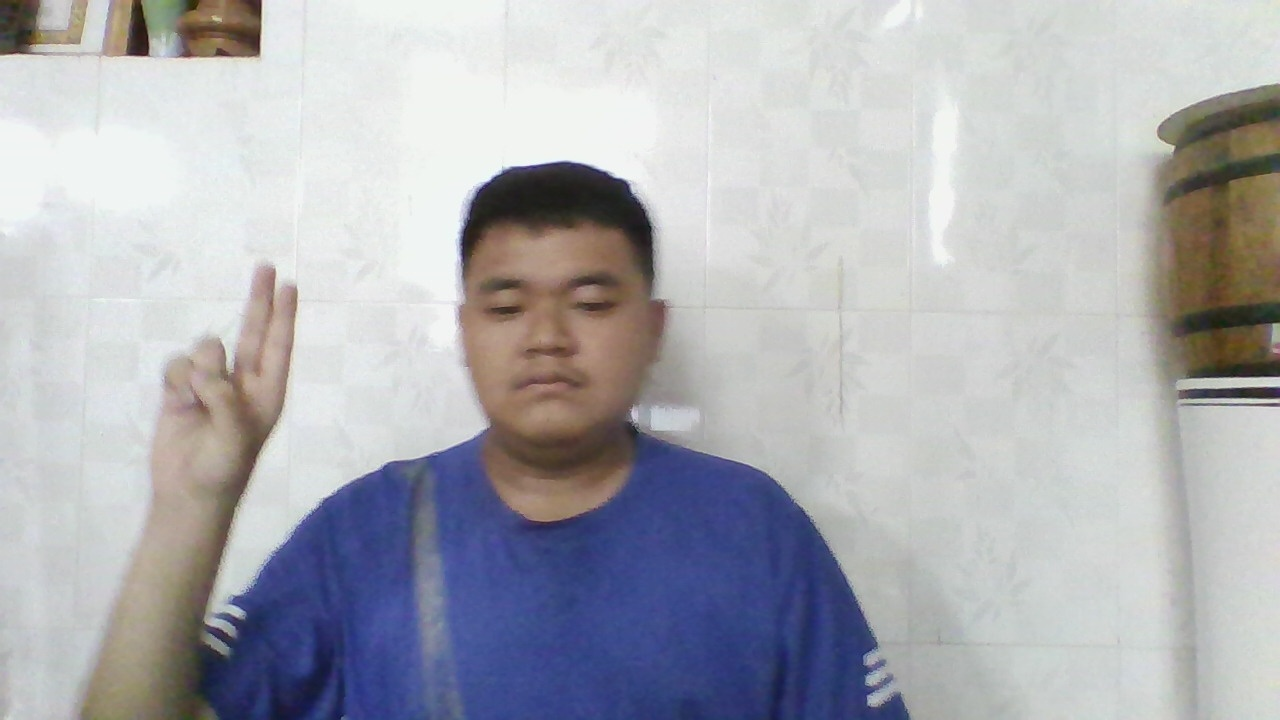U: (159, 257, 303, 502)
